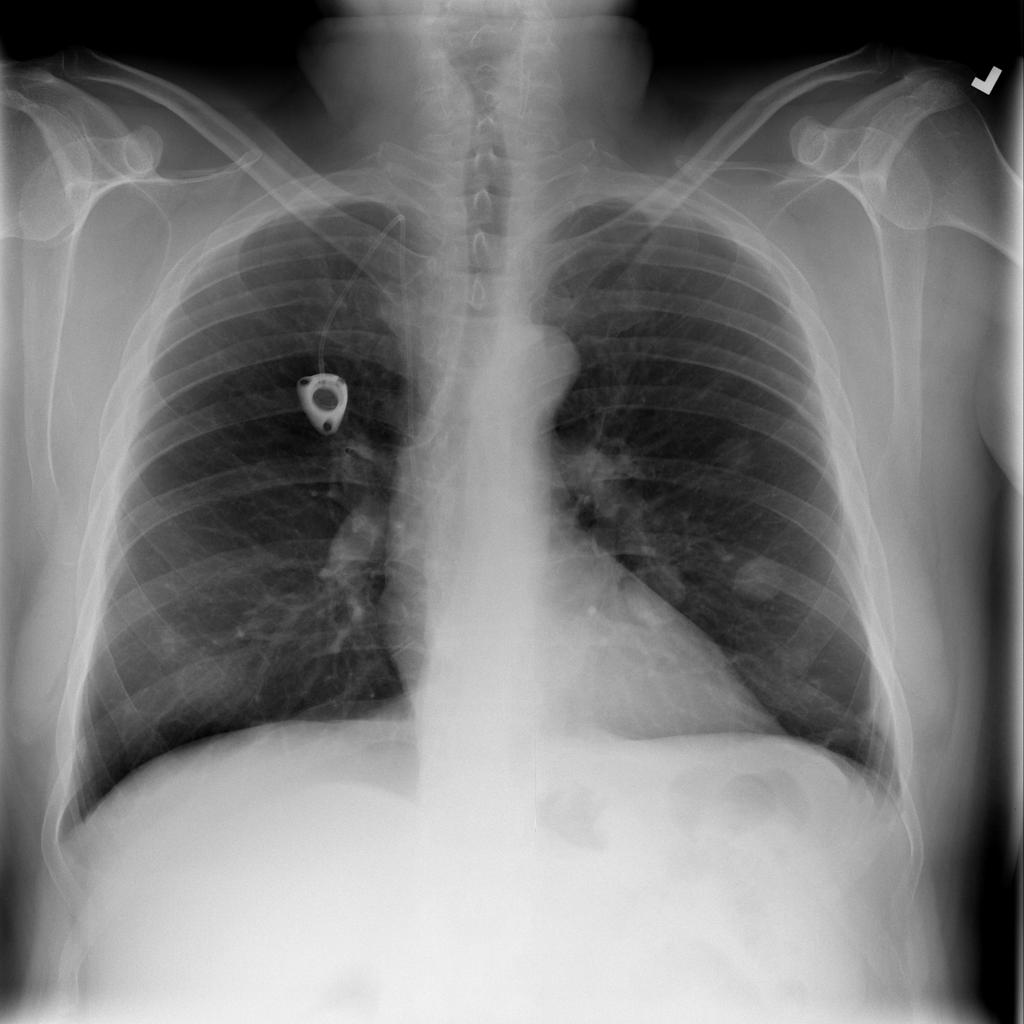nodule: (616, 547, 701, 627), (719, 542, 799, 614), (697, 419, 772, 489)
